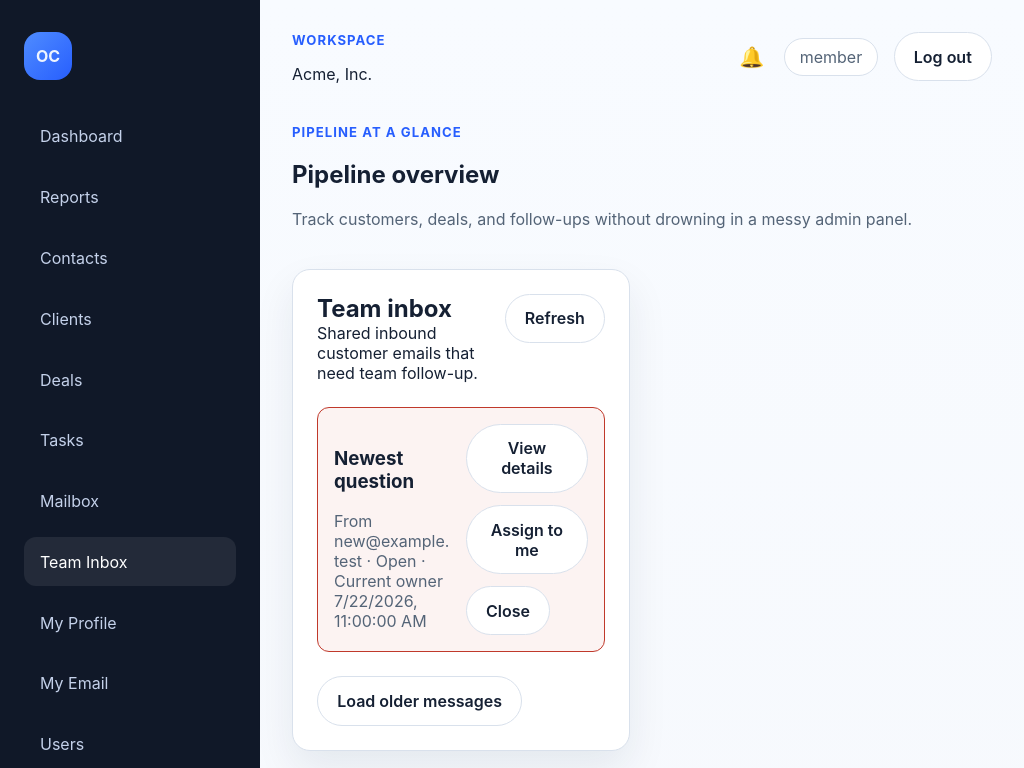
Scenario: team inbox route › loads older messages once and preserves a newer loaded version of a duplicate
The image size is (1024, 768).
expect the heading "Newest question" is shown: met, box [334,447,414,493]
Click the button "Load older messages".
click(420, 701)  # box [317,676,522,726]
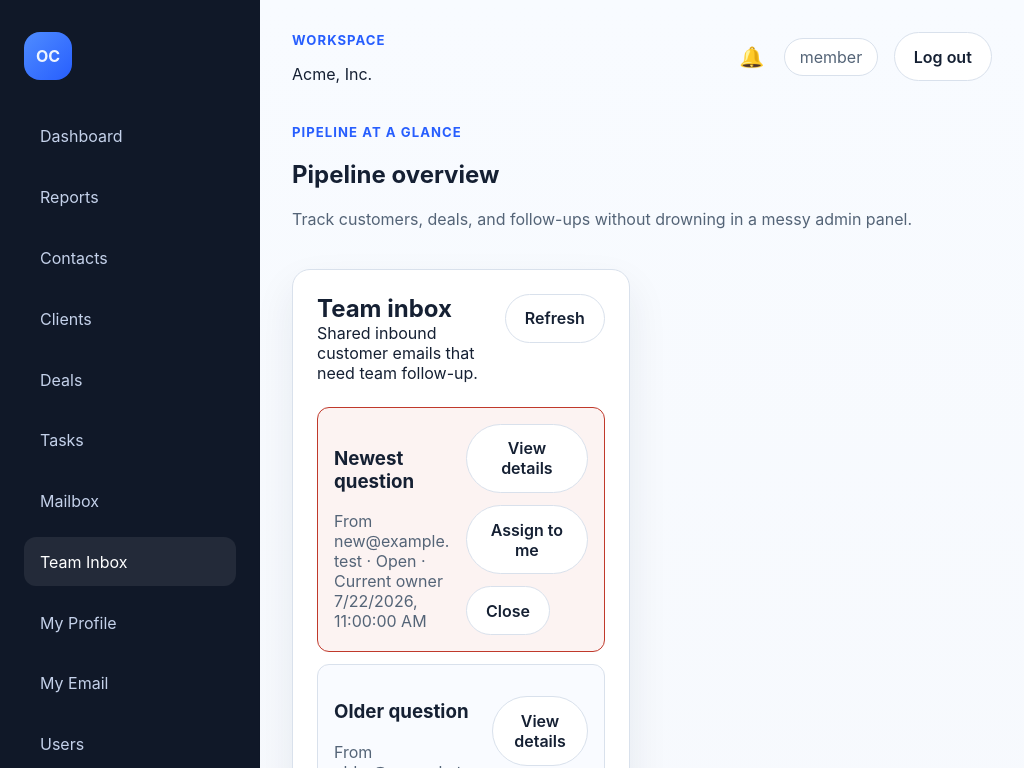
expect the number of headings "Newest question" is 1: met, box [334,447,414,493]
expect the heading "Older question" is shown: met, box [334,700,476,723]
expect the button "Load older messages" is gone: met
